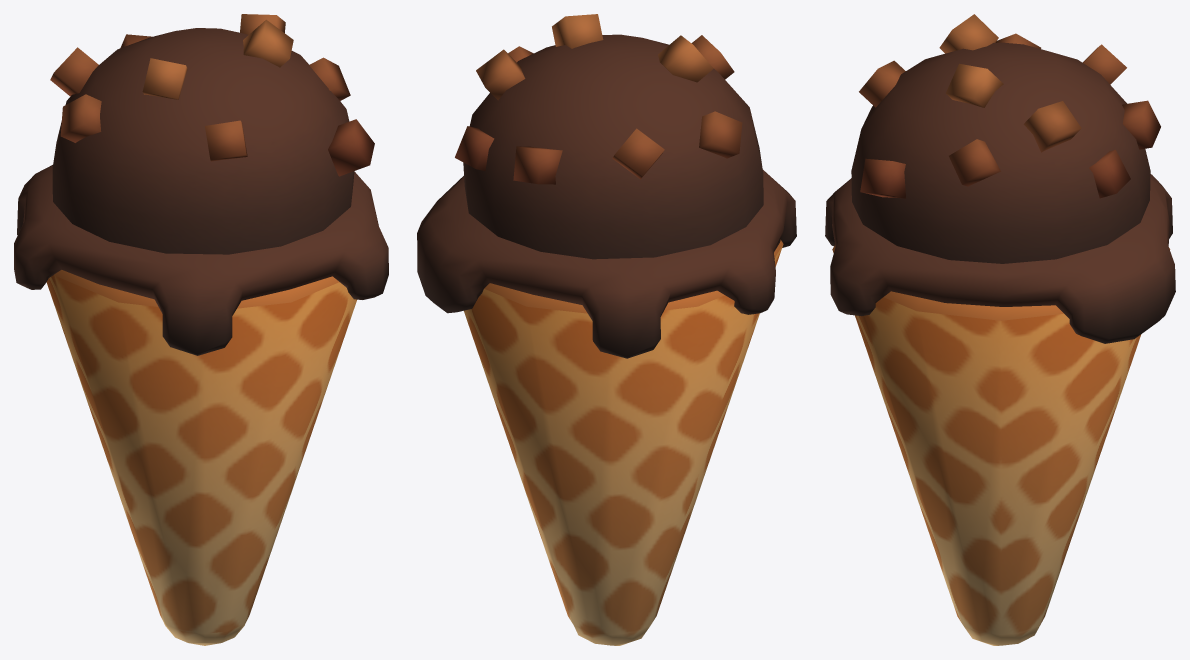
Rendered from m_IceCream11.fbx.
3 renders of one model, left to right at view 1: azimuth 30°, elevation 25°; view 2: azimuth 150°, elevation 25°; view 3: azimuth 270°, elevation 25°, orthographic. The views are drawn at different scales.
Parts seen in each view (by area): view 1: m_IceCream11; view 2: m_IceCream11; view 3: m_IceCream11.
Boxes of the visible parts, x1,y1,x2,y2 form: m_IceCream11: (14, 14, 388, 645); m_IceCream11: (417, 14, 796, 645); m_IceCream11: (825, 14, 1175, 645).
Size of the model in its own units: 9.64 by 17.4 by 9.25.
